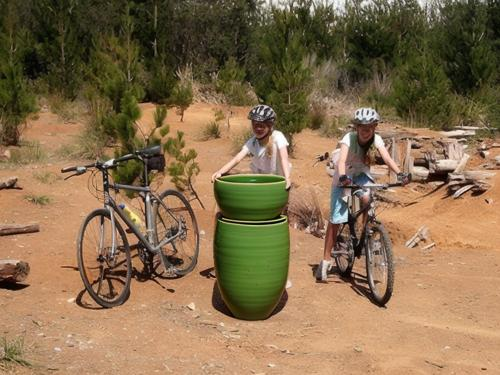bicycle: (61, 145, 202, 310), (328, 172, 417, 308)
person: (315, 107, 410, 285), (216, 103, 295, 290)
person/foot: (278, 266, 293, 290), (316, 260, 330, 285), (220, 240, 235, 255)
person/hand: (275, 181, 290, 195), (396, 172, 411, 186), (211, 173, 224, 187), (338, 175, 351, 185)
person/head: (251, 104, 273, 140), (356, 109, 376, 142)
pottedplant: (213, 172, 288, 320)
